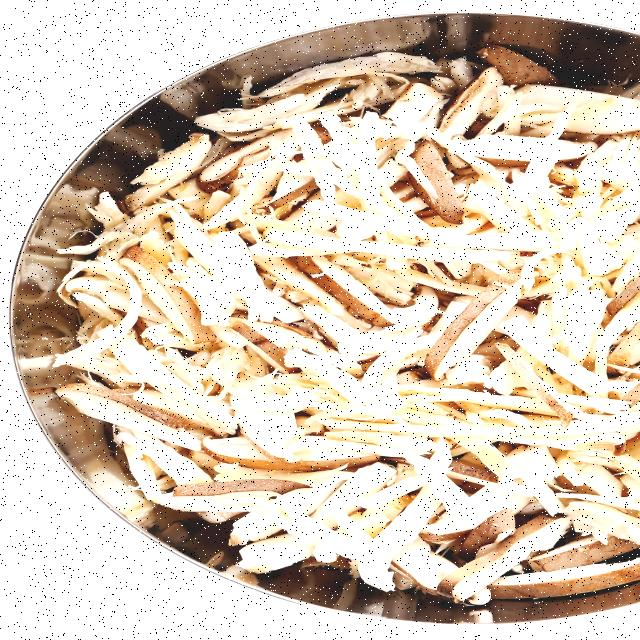Mushroom: (118, 138, 612, 451)
